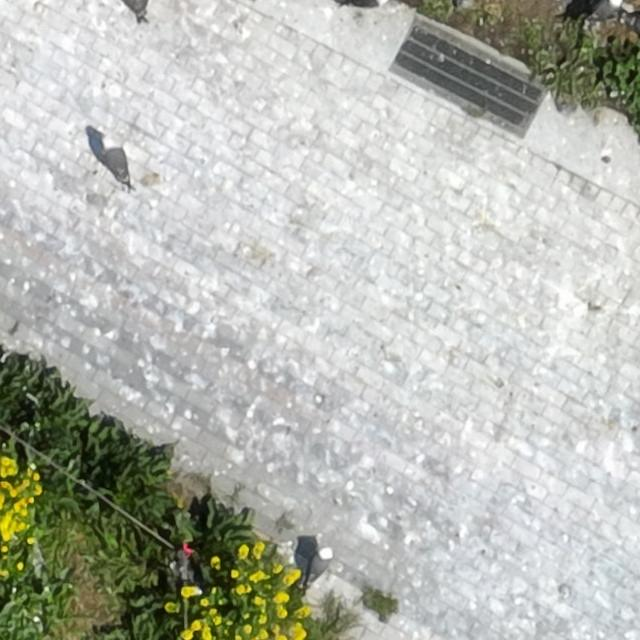umineko: (102, 138, 128, 185), (306, 545, 331, 582), (588, 0, 617, 19)
